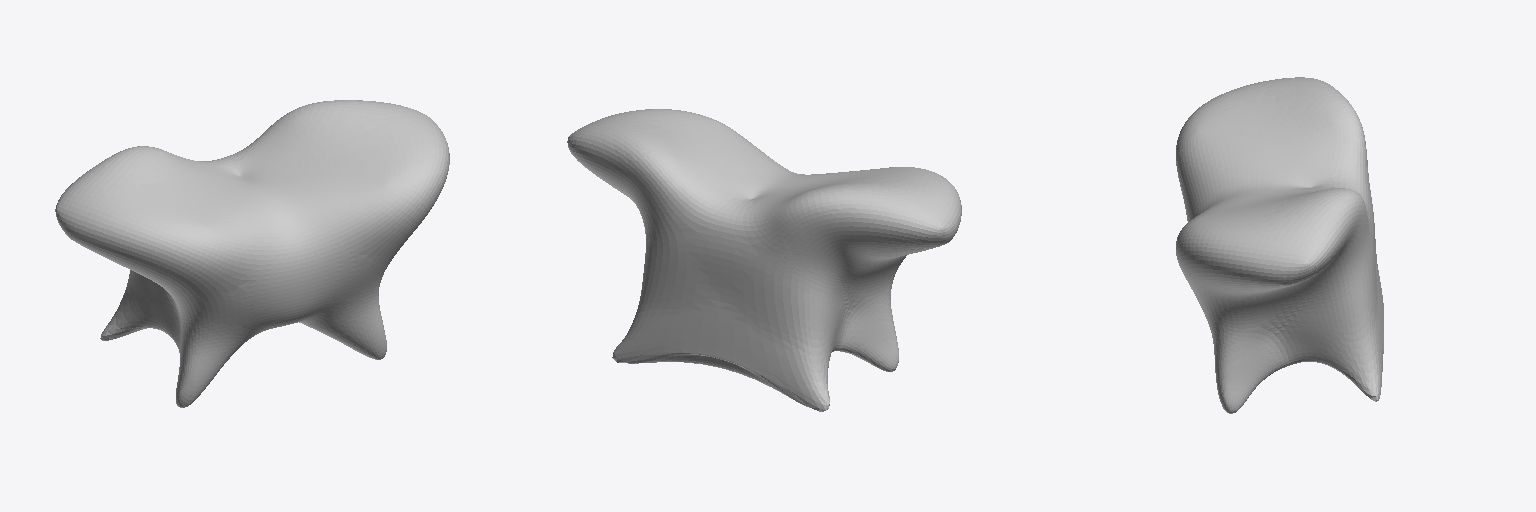
The model's file is Quadril.obj.
3 renders of one model, left to right at view 1: azimuth 30°, elevation 25°; view 2: azimuth 150°, elevation 25°; view 3: azimuth 270°, elevation 25°, orthographic.
Parts seen in each view (by area): view 1: Group49335; view 2: Group49335; view 3: Group49335.
Boxes of the visible parts, box(x1,y1,x2,y2) form: Group49335: box(55, 100, 449, 407); Group49335: box(567, 109, 961, 411); Group49335: box(1176, 77, 1383, 413).
Bounding box in the file's own units: 0.926 × 0.5126 × 0.4435.